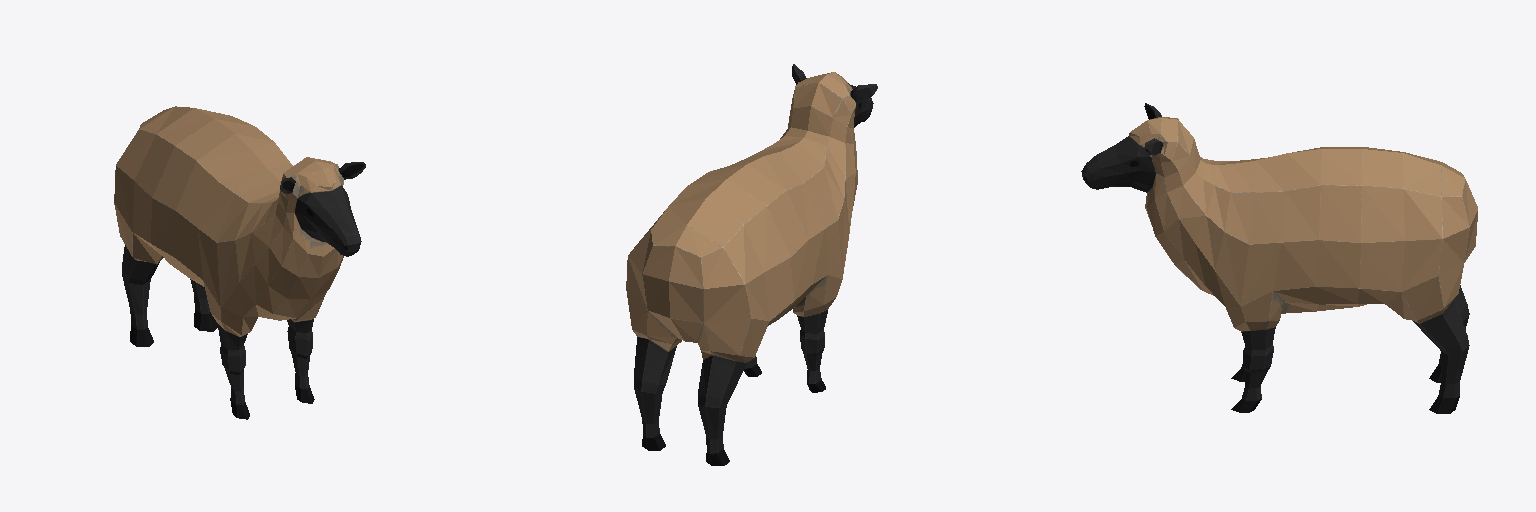
3 views of the same model, side by side, from view 1: azimuth 30°, elevation 25°; view 2: azimuth 150°, elevation 25°; view 3: azimuth 270°, elevation 25° (orthographic).
Visible parts, largest first — view 1: Sheep_mesh; view 2: Sheep_mesh; view 3: Sheep_mesh.
Boxes of the visible parts, box(x1,y1,x2,y2) form: Sheep_mesh: box(114, 106, 365, 419); Sheep_mesh: box(626, 64, 877, 465); Sheep_mesh: box(1081, 103, 1477, 413).
Bounding box in the file's own units: 2.46 × 4.93 × 6.42.
1 materials, 1 textured.